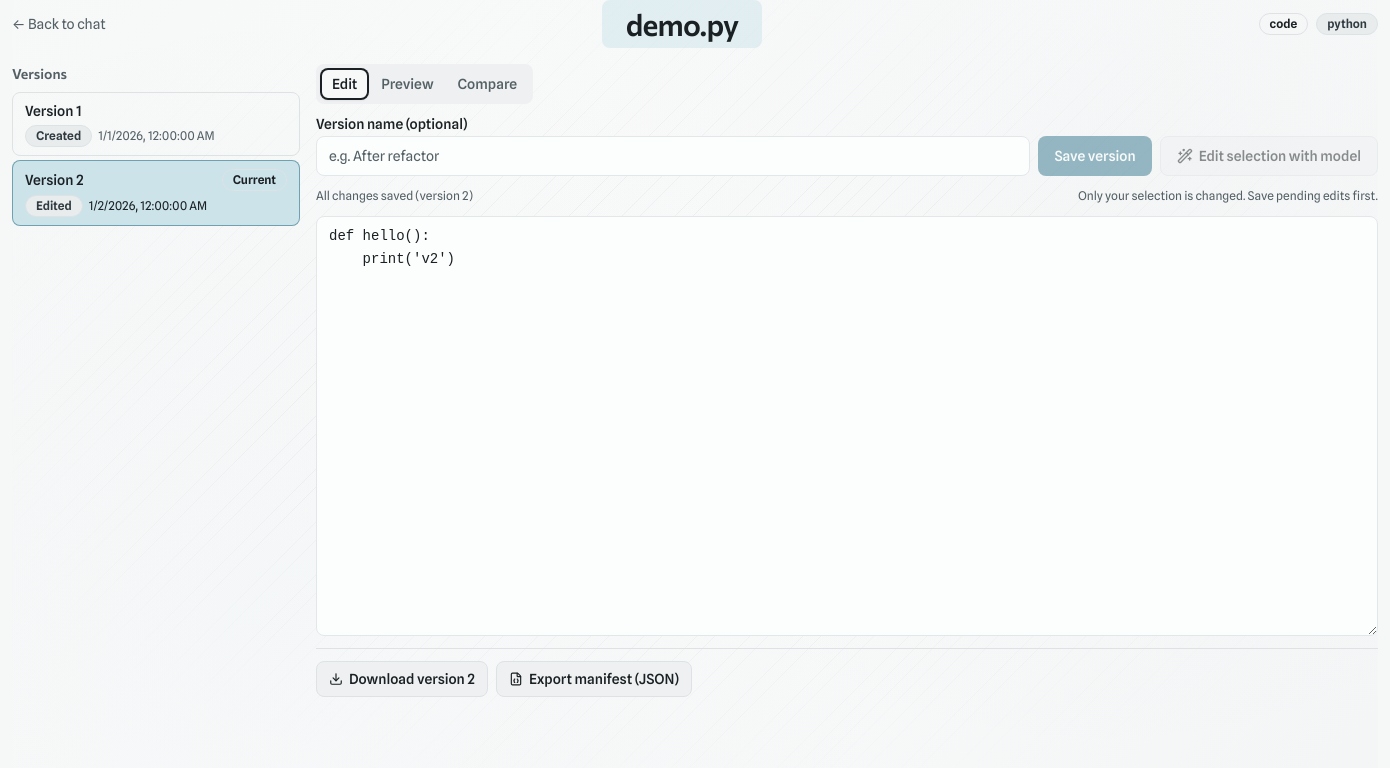
Test: CanvasPage preview tab › falls back to plain text and keeps the content unchanged when the renderer fails
Check: the text box named "Canvas content editor" is shown, box left=316, top=216, right=1378, bottom=636
Click the tab with aria-label "Preview tab": click(407, 84) left=369, top=68, right=446, bottom=100
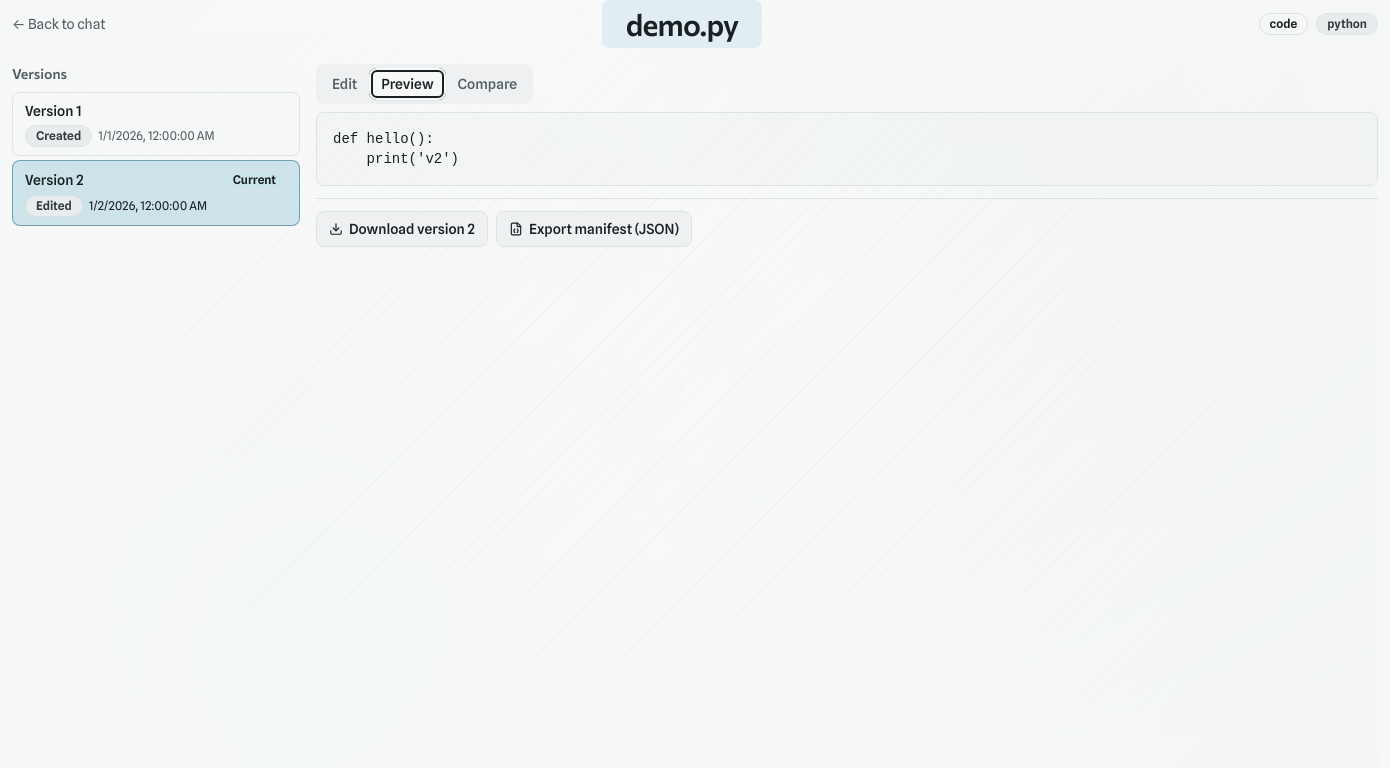
Check: the element with test id "canvas-preview-plain" shows "def hello():", box left=333, top=131, right=459, bottom=167
Check: the element with test id "canvas-preview-plain" shows "print('v2')", box left=333, top=131, right=459, bottom=167
